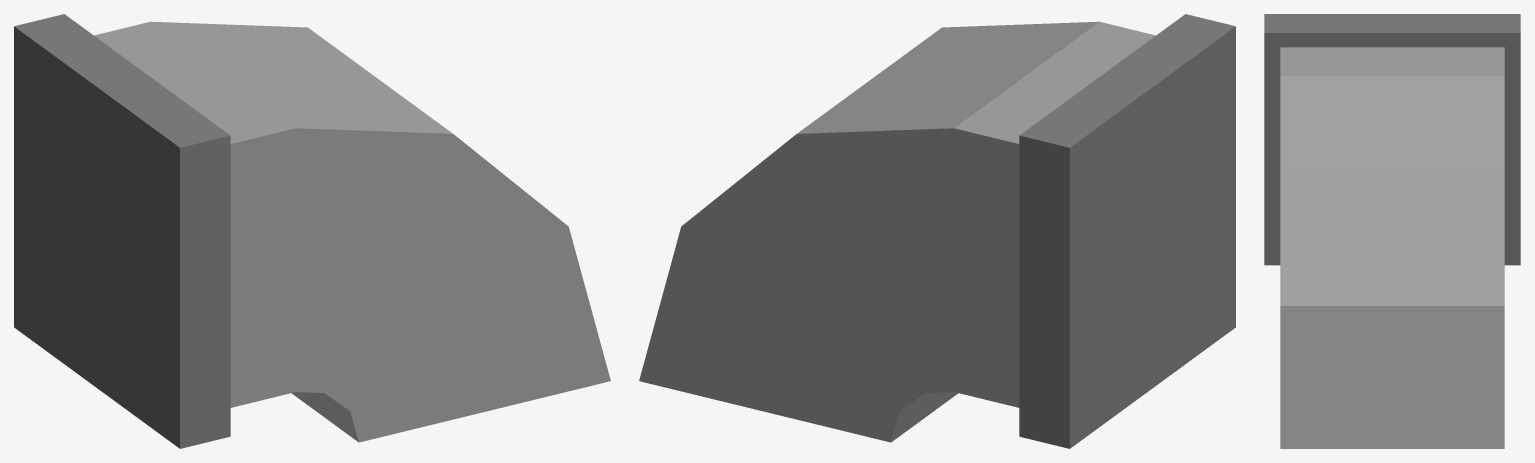
The model's file is M_RoofVent02.fbx.
3 renders of one model, left to right at view 1: azimuth 30°, elevation 25°; view 2: azimuth 150°, elevation 25°; view 3: azimuth 270°, elevation 25°, orthographic. The views are drawn at different scales.
Parts seen in each view (by area): view 1: M_RoofVent02; view 2: M_RoofVent02; view 3: M_RoofVent02.
Boxes of the visible parts, x1,y1,x2,y2 form: M_RoofVent02: [14, 14, 610, 448]; M_RoofVent02: [639, 14, 1235, 448]; M_RoofVent02: [1264, 14, 1520, 448].
Size of what is drawn, in the model's own units: 175 by 114 by 132.
